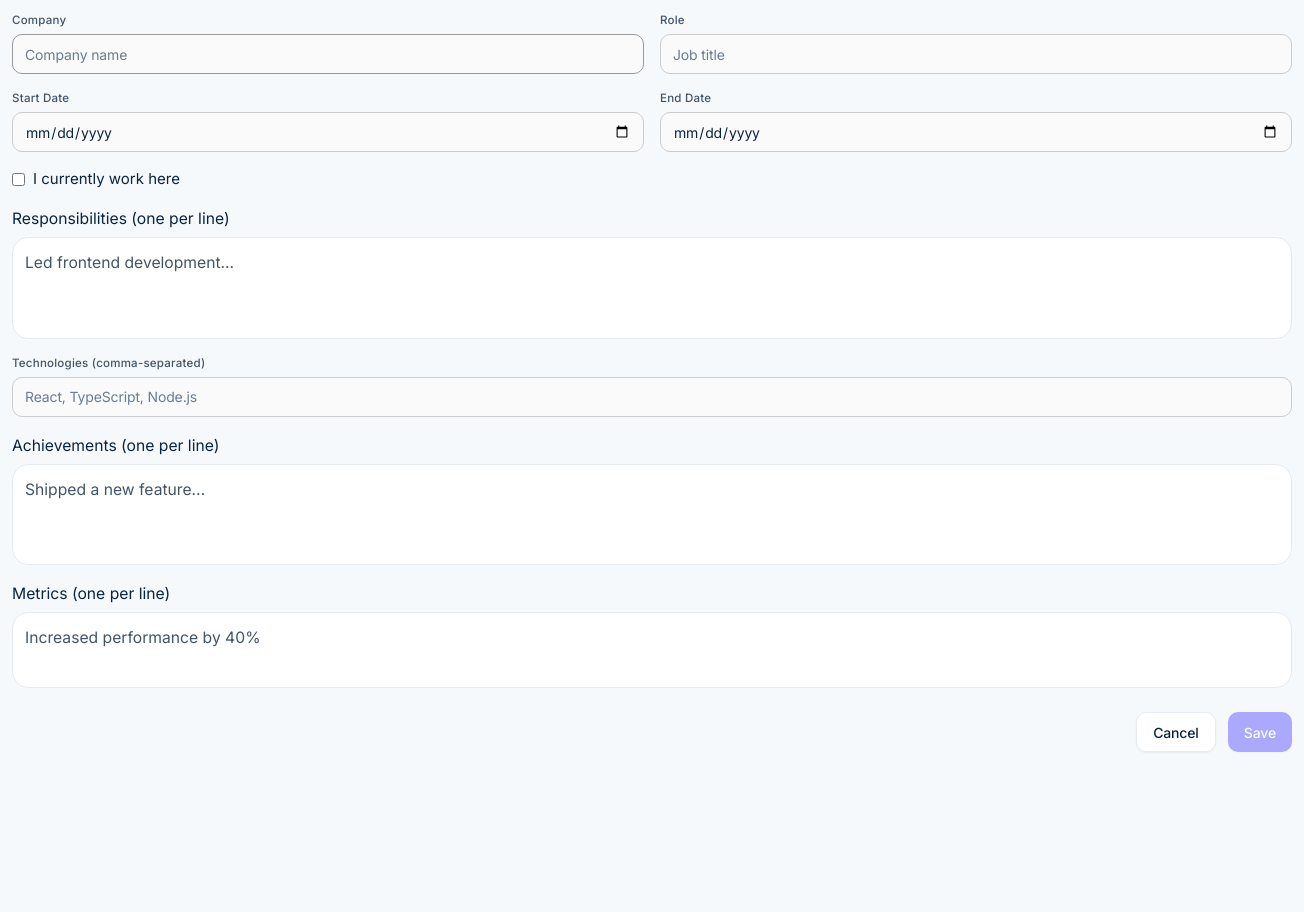
Test: ExperienceForm › disables end date when current is checked
Click the text "I currently work here" at point(106, 179), box left=33, top=168, right=180, bottom=190
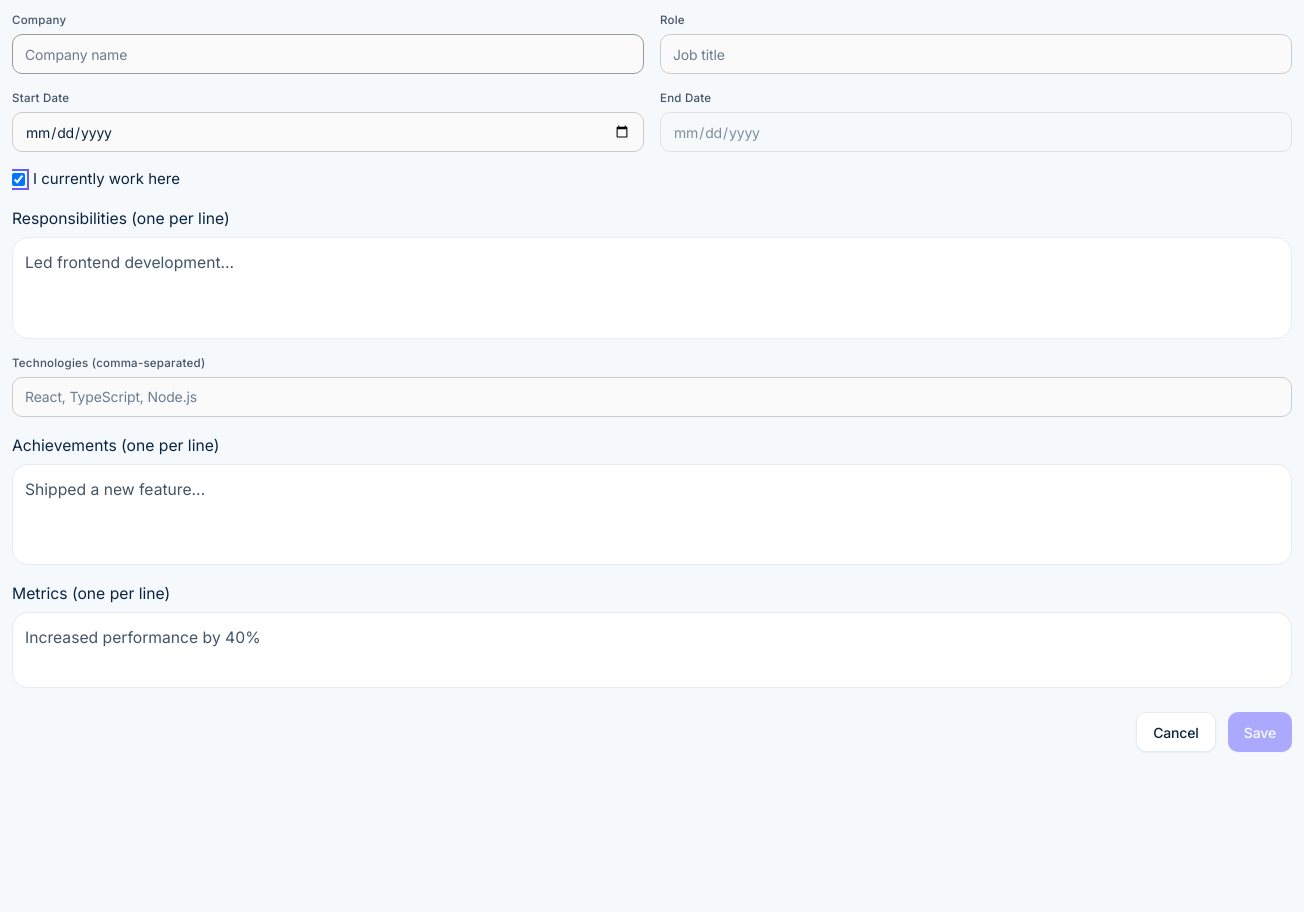
Expected: the date field labelled "End Date" is disabled, left=660, top=112, right=1292, bottom=152
